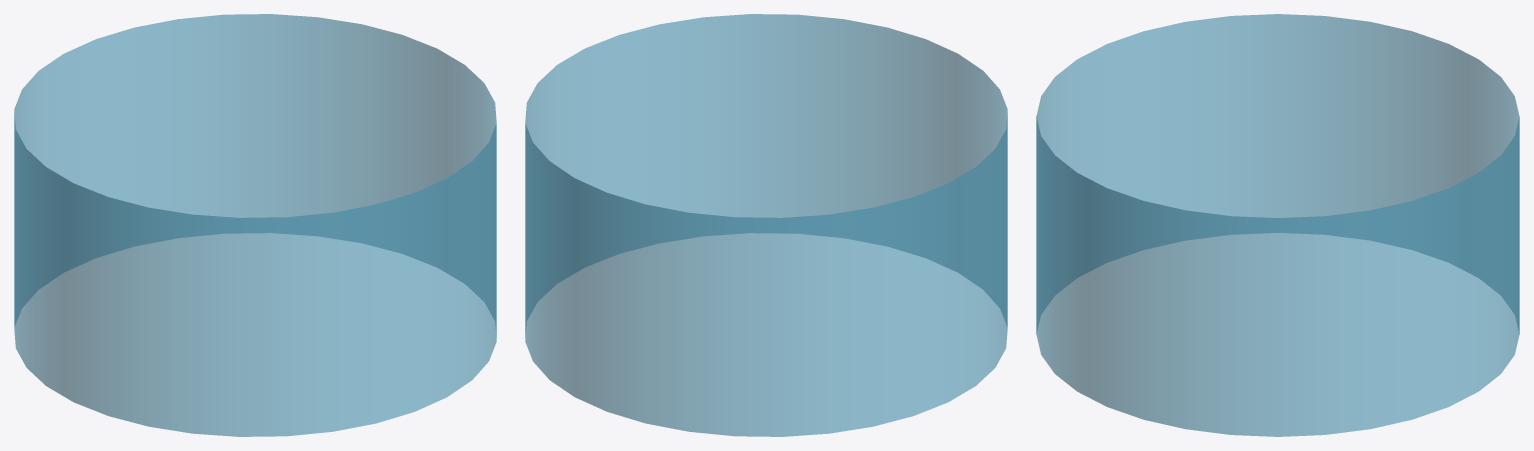
File: shield.obj
3 views of the same model, side by side, from view 1: azimuth 30°, elevation 25°; view 2: azimuth 150°, elevation 25°; view 3: azimuth 270°, elevation 25° (orthographic).
Parts seen in each view (by area): view 1: Цилиндр; view 2: Цилиндр; view 3: Цилиндр.
Part boxes in pixels (x1=…): Цилиндр: x1=14, y1=14, x2=496, y2=436; Цилиндр: x1=525, y1=14, x2=1007, y2=436; Цилиндр: x1=1036, y1=14, x2=1519, y2=436.
Bounding box in the file's own units: 2 × 1 × 2.
